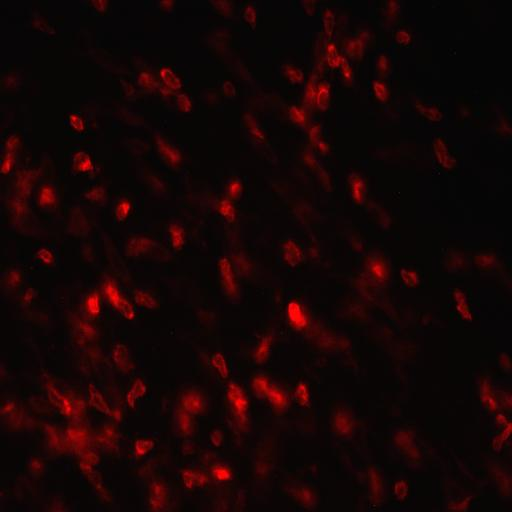microglia: (287, 297, 349, 354), (237, 62, 290, 120), (342, 173, 391, 229), (3, 269, 48, 327), (46, 427, 98, 475), (8, 167, 45, 233), (67, 310, 105, 374), (269, 182, 324, 226), (139, 442, 173, 512), (99, 226, 130, 283), (98, 274, 135, 320), (190, 189, 236, 225), (299, 61, 325, 122), (173, 391, 207, 437), (253, 375, 292, 415), (42, 371, 73, 419), (365, 300, 406, 336), (228, 383, 250, 447), (88, 385, 124, 424), (209, 460, 235, 512), (248, 323, 278, 364), (300, 149, 330, 190), (0, 400, 38, 431), (251, 433, 275, 482), (127, 237, 172, 263), (154, 131, 185, 167), (91, 424, 123, 457), (329, 407, 361, 440), (441, 476, 474, 508), (228, 249, 262, 280), (391, 428, 422, 462), (352, 273, 387, 303), (283, 480, 317, 510), (303, 235, 332, 268), (198, 349, 229, 378), (0, 136, 23, 175), (486, 103, 512, 137), (364, 466, 387, 504), (111, 342, 138, 374), (124, 377, 150, 410), (195, 308, 222, 339), (220, 259, 239, 301), (110, 107, 148, 128), (66, 208, 92, 238), (72, 150, 99, 178), (139, 170, 166, 198), (178, 468, 212, 490), (243, 111, 265, 145), (433, 138, 457, 169), (207, 32, 232, 61), (132, 286, 162, 310), (37, 182, 61, 212), (80, 290, 104, 318), (478, 379, 499, 409), (492, 420, 512, 450), (454, 290, 472, 322), (442, 248, 466, 272), (31, 12, 55, 36), (293, 380, 312, 410), (161, 69, 182, 96), (380, 0, 400, 28), (309, 124, 328, 153), (344, 37, 366, 62), (116, 81, 140, 103), (416, 102, 442, 122), (136, 73, 160, 94), (282, 242, 302, 266), (348, 174, 364, 204), (287, 300, 306, 325), (168, 224, 186, 250), (85, 187, 109, 206), (3, 71, 22, 94), (341, 233, 365, 251), (211, 0, 234, 18), (35, 249, 57, 266), (226, 178, 243, 200), (134, 440, 153, 459), (82, 241, 97, 265), (211, 463, 232, 480), (400, 269, 419, 287), (323, 9, 335, 36), (28, 457, 44, 477), (316, 88, 330, 110), (4, 270, 20, 289), (116, 200, 131, 220), (70, 113, 86, 131), (374, 82, 388, 102), (497, 352, 511, 372), (327, 44, 339, 67), (376, 55, 389, 76), (474, 253, 492, 268), (394, 480, 408, 499), (222, 80, 236, 98), (243, 8, 256, 27), (288, 68, 303, 84), (182, 439, 196, 456), (290, 106, 304, 123), (91, 0, 109, 13), (301, 0, 315, 16), (178, 96, 190, 114), (219, 258, 232, 274), (495, 414, 509, 428), (340, 59, 350, 78), (396, 31, 409, 45), (211, 431, 223, 446), (372, 263, 384, 278), (159, 0, 174, 10), (454, 289, 465, 302), (4, 402, 14, 413), (328, 44, 335, 52), (398, 190, 402, 194)
